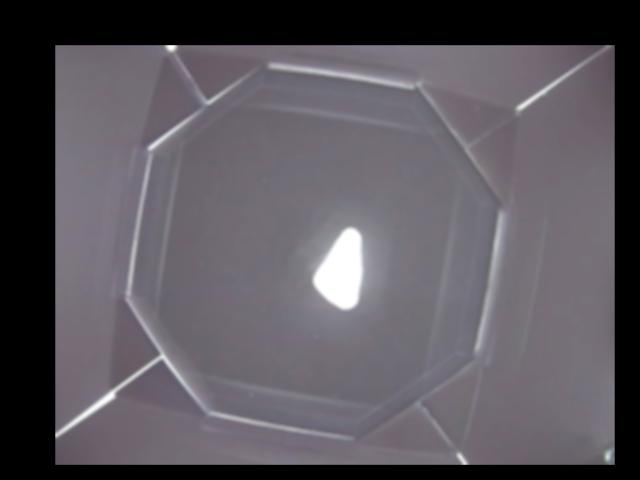Pebble: (314, 227, 361, 310)
